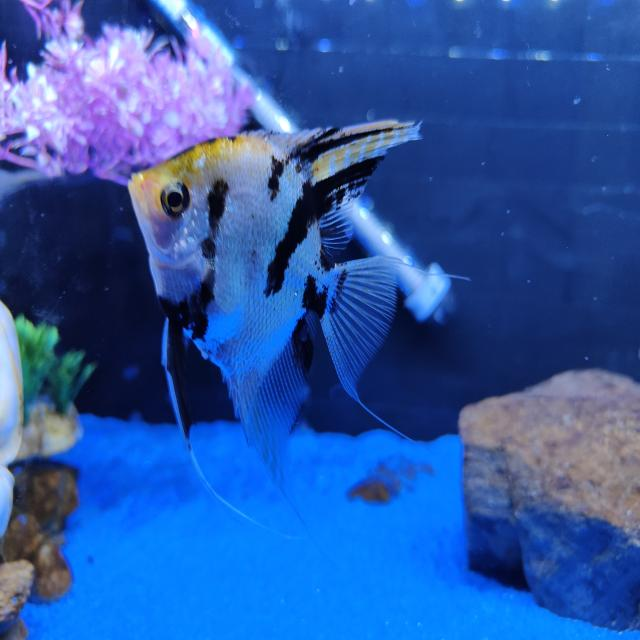Fish: (128, 121, 418, 492)
